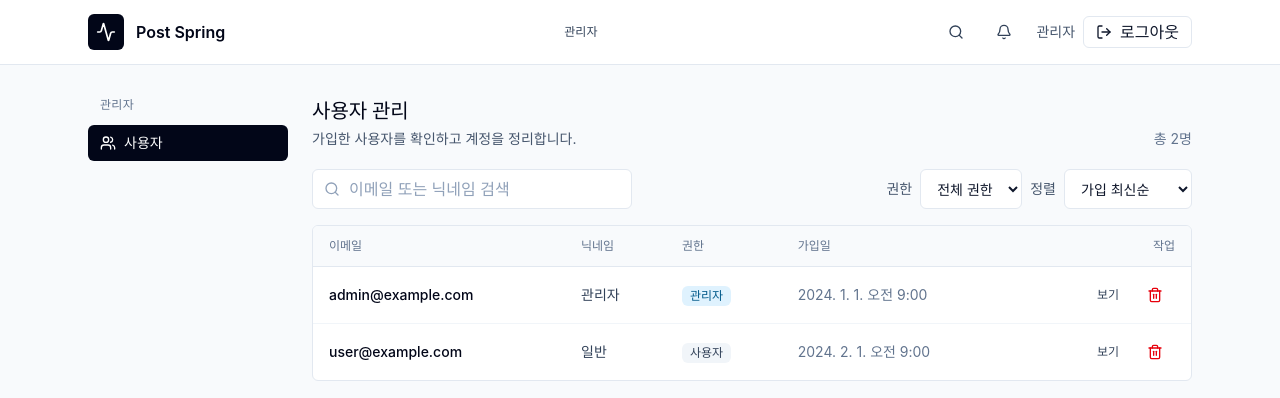
Scenario: AdminUsersPage › searches users by keyword on the server
Expected: the link "admin@example.com" is shown, top-left (329, 286), bottom-right (474, 303)
In the search field named "사용자 검색": (472, 189) top-left (312, 169), bottom-right (632, 209), type "user"
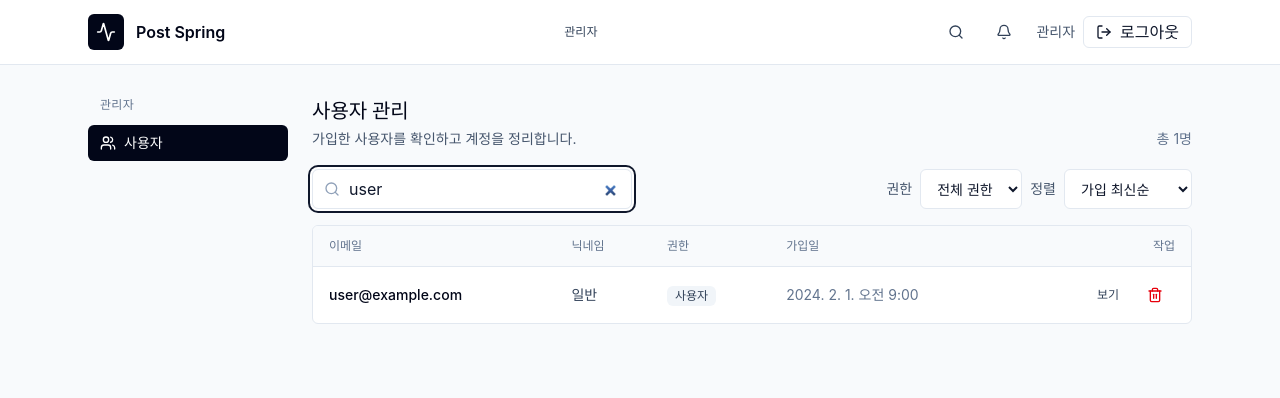
Expected: the link "user@example.com" is shown, top-left (329, 286), bottom-right (462, 303)
Result: the link "admin@example.com" is gone
